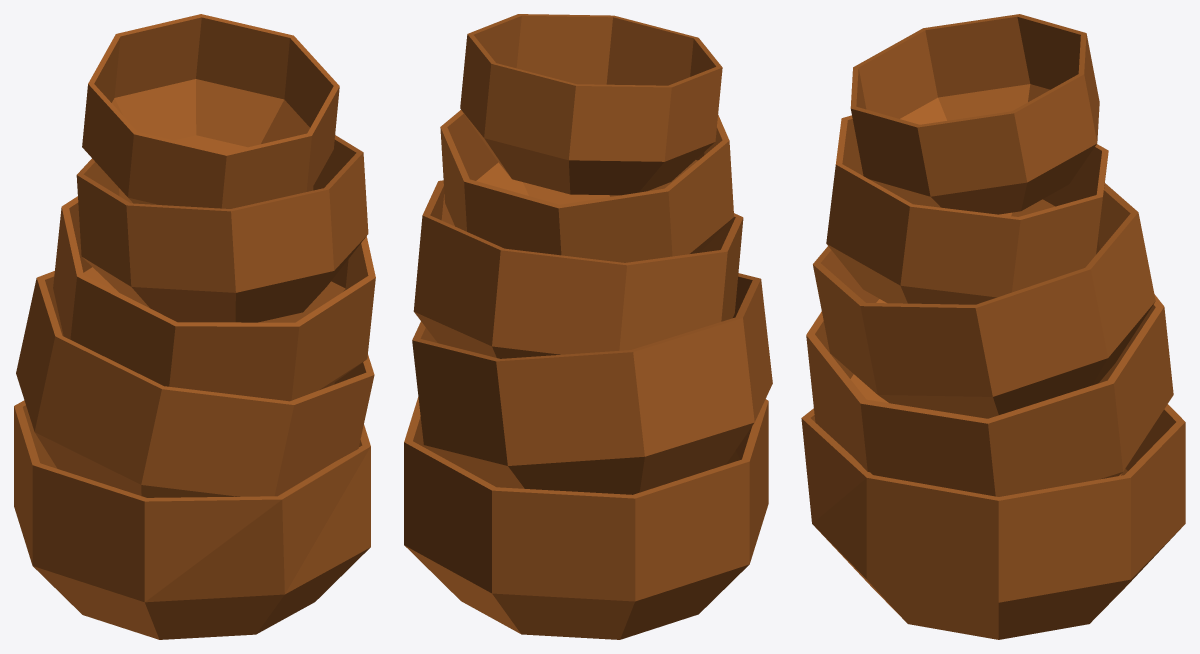
Rendered from SM_pottery_006.FBX.
The picture shows the model from 3 angles, left to right: view 1: azimuth 30°, elevation 25°; view 2: azimuth 150°, elevation 25°; view 3: azimuth 270°, elevation 25°; orthographic projection. The views are drawn at different scales.
Parts seen in each view (by area): view 1: Object090; view 2: Object090; view 3: Object090.
Part boxes in pixels (left/top/right/bottom): Object090: left=14, top=14, right=375, bottom=639; Object090: left=404, top=14, right=772, bottom=639; Object090: left=801, top=14, right=1185, bottom=639.
Size of the model in its own units: 52.13 by 82.28 by 53.38.
